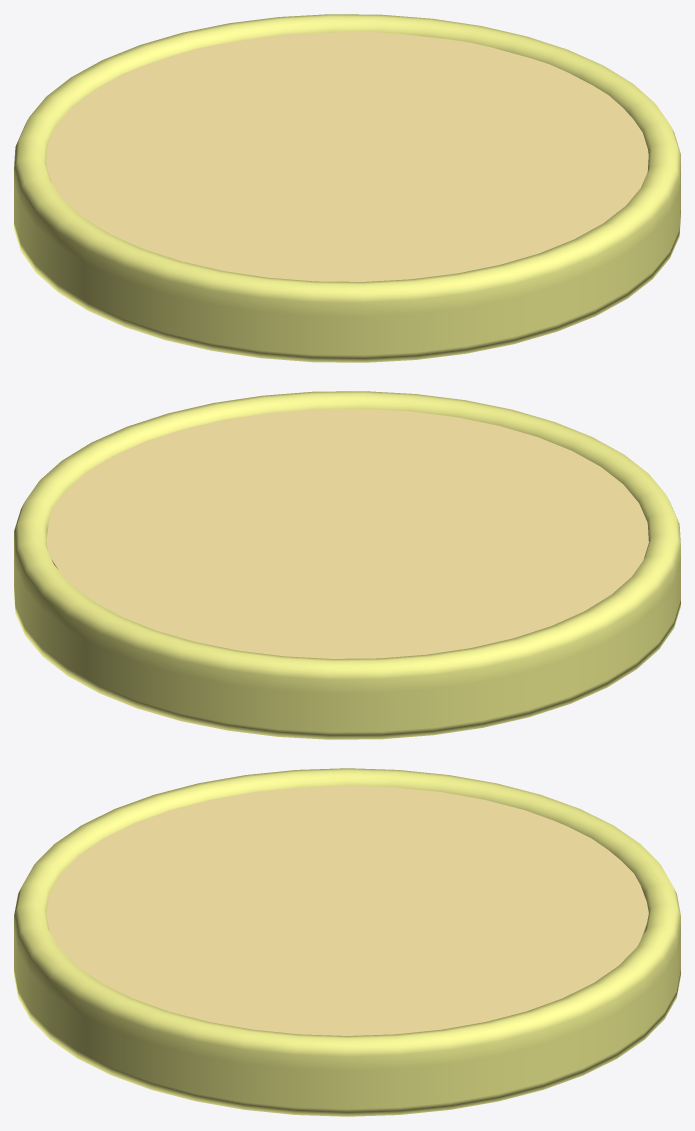
Rendered from Pizza.fbx.
3 renders of one model, top to bottom at view 1: azimuth 30°, elevation 25°; view 2: azimuth 150°, elevation 25°; view 3: azimuth 270°, elevation 25°, orthographic.
Parts seen in each view (by area): view 1: Cheese, Pizza_Crust; view 2: Cheese, Pizza_Crust; view 3: Cheese, Pizza_Crust.
Boxes of the visible parts, bbox=[...] form: Cheese: bbox=[46, 32, 648, 281]; Pizza_Crust: bbox=[14, 14, 680, 362]; Cheese: bbox=[46, 408, 648, 658]; Pizza_Crust: bbox=[14, 391, 680, 739]; Cheese: bbox=[46, 785, 648, 1035]; Pizza_Crust: bbox=[14, 768, 680, 1116].
Size of the model in its own units: 21.12 by 2.58 by 21.12.
